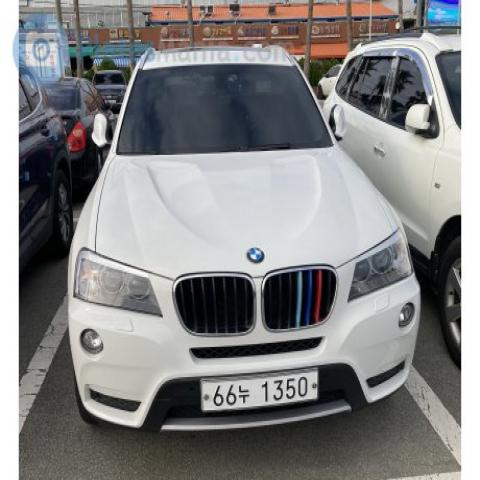LP: (193, 365, 328, 418)
